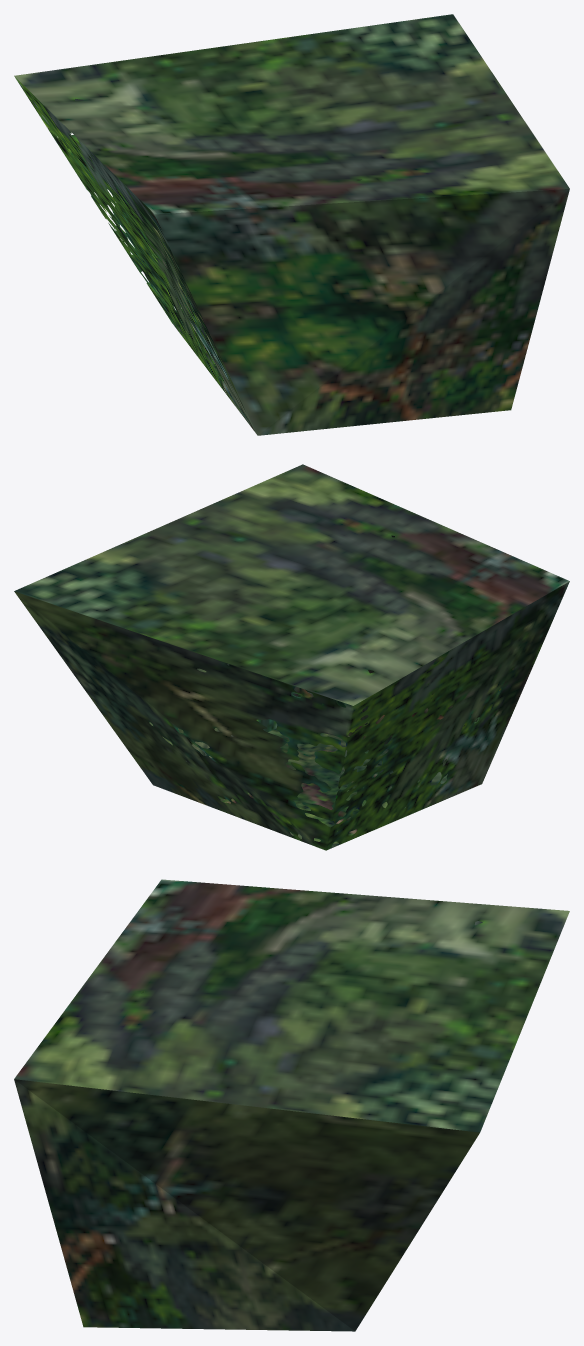
Rendered from BurntTree_1_B_1.gltf.
The picture shows the model from 3 angles, top to bottom: view 1: azimuth 30°, elevation 25°; view 2: azimuth 150°, elevation 25°; view 3: azimuth 270°, elevation 25°; orthographic projection. The views are drawn at different scales.
Parts seen in each view (by area): view 1: BurntTree_1_B_1; view 2: BurntTree_1_B_1; view 3: BurntTree_1_B_1.
Part boxes in pixels (x1=…): BurntTree_1_B_1: x1=14, y1=14, x2=569, y2=435; BurntTree_1_B_1: x1=14, y1=464, x2=569, y2=850; BurntTree_1_B_1: x1=14, y1=879, x2=569, y2=1331.
Size of the model in its own units: 1.07 by 0.5716 by 1.05.
1 material, 1 textured.
